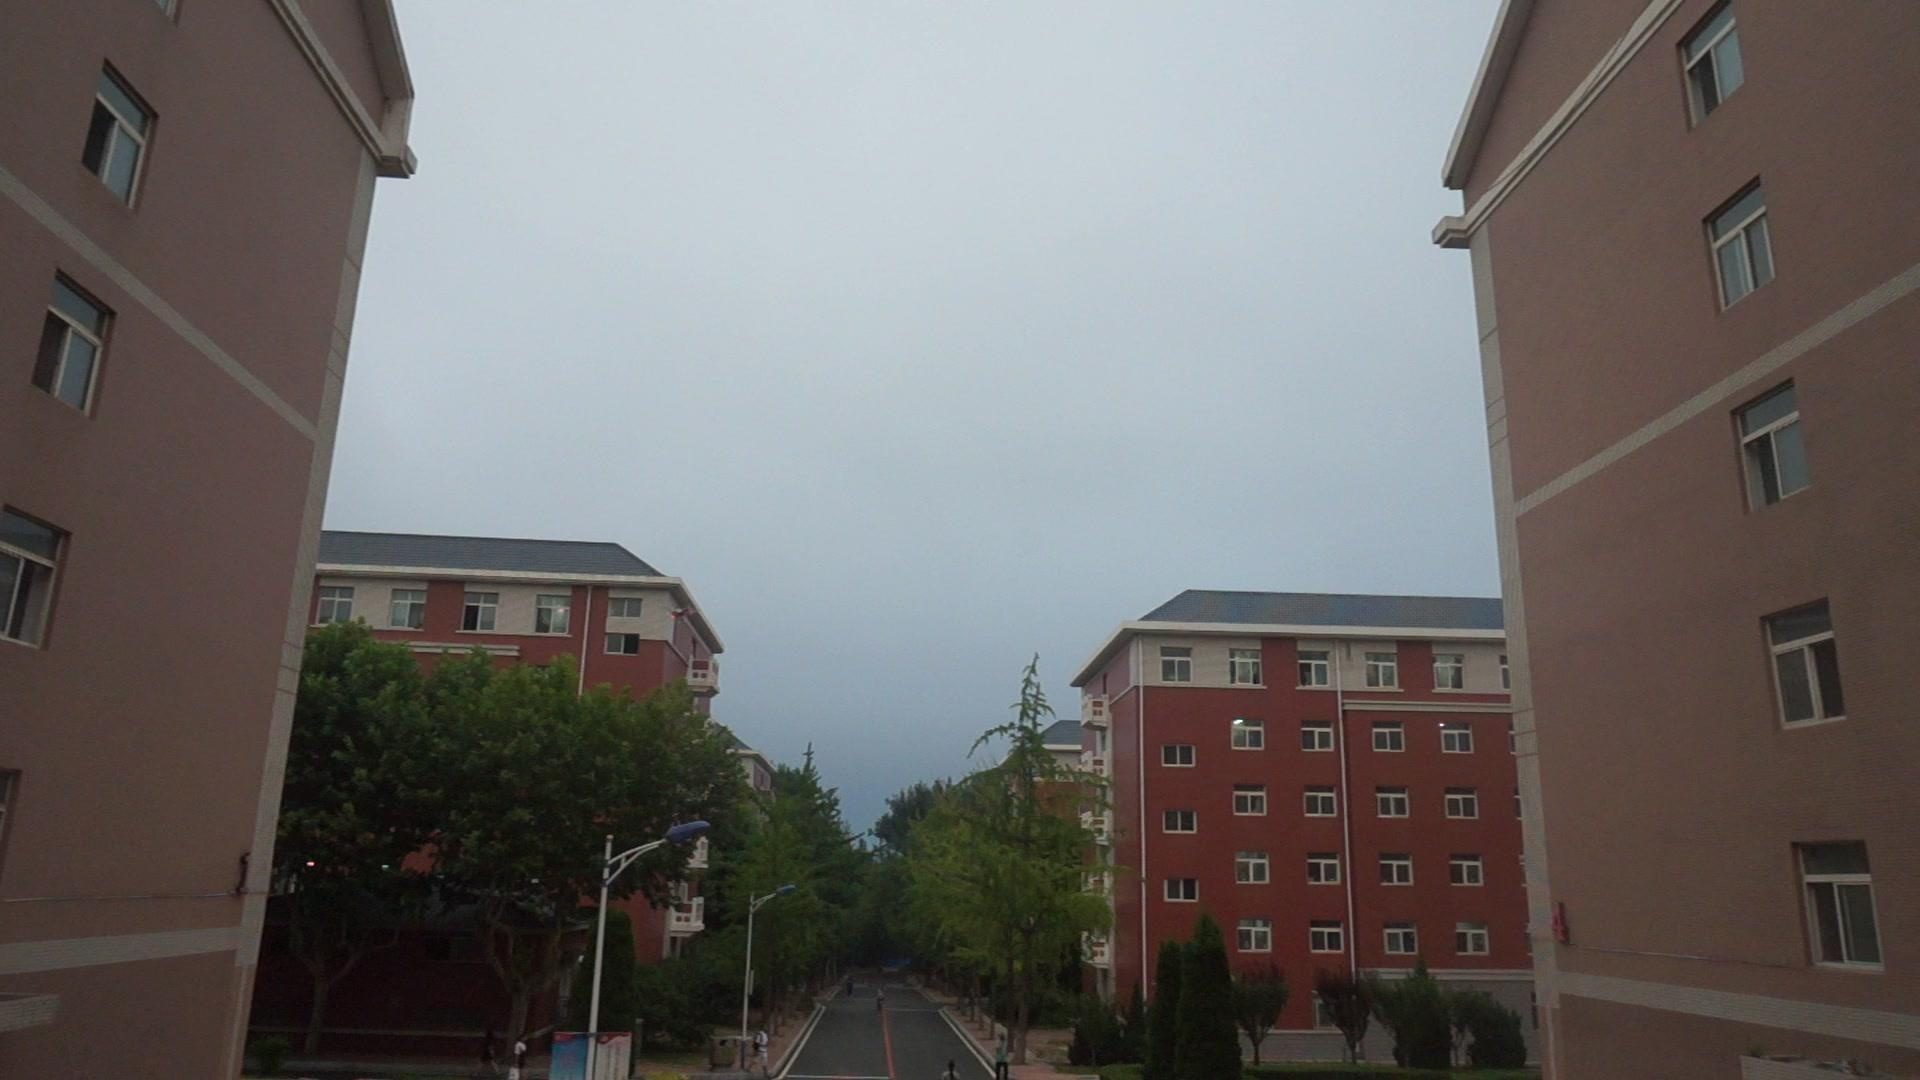UAV: (666, 609, 698, 625)
